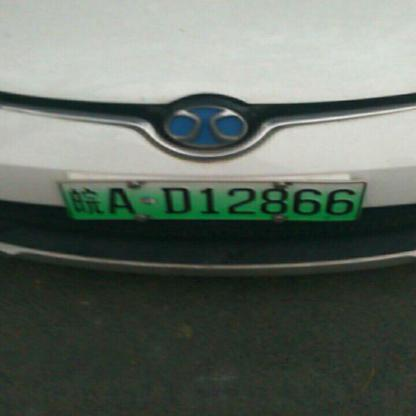lp: (60, 181, 365, 219)
